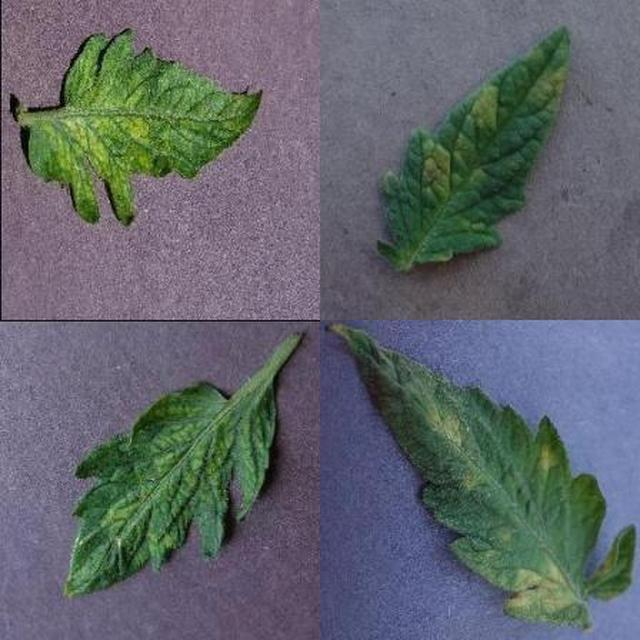Mosaic Virus Leaf: (207, 184, 640, 640)
